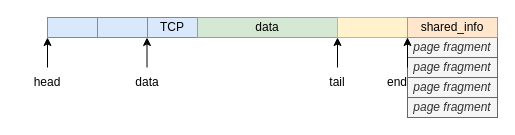
The diagram is 515 pixels wide and 135 high, and some of its shapes have lost their labels. Here are the shapes that lost their labels. From the top down, the centre of each, then its label:
the point at 72,27: L2 hdr
the point at 122,27: IP
the point at 372,27: tailroom
